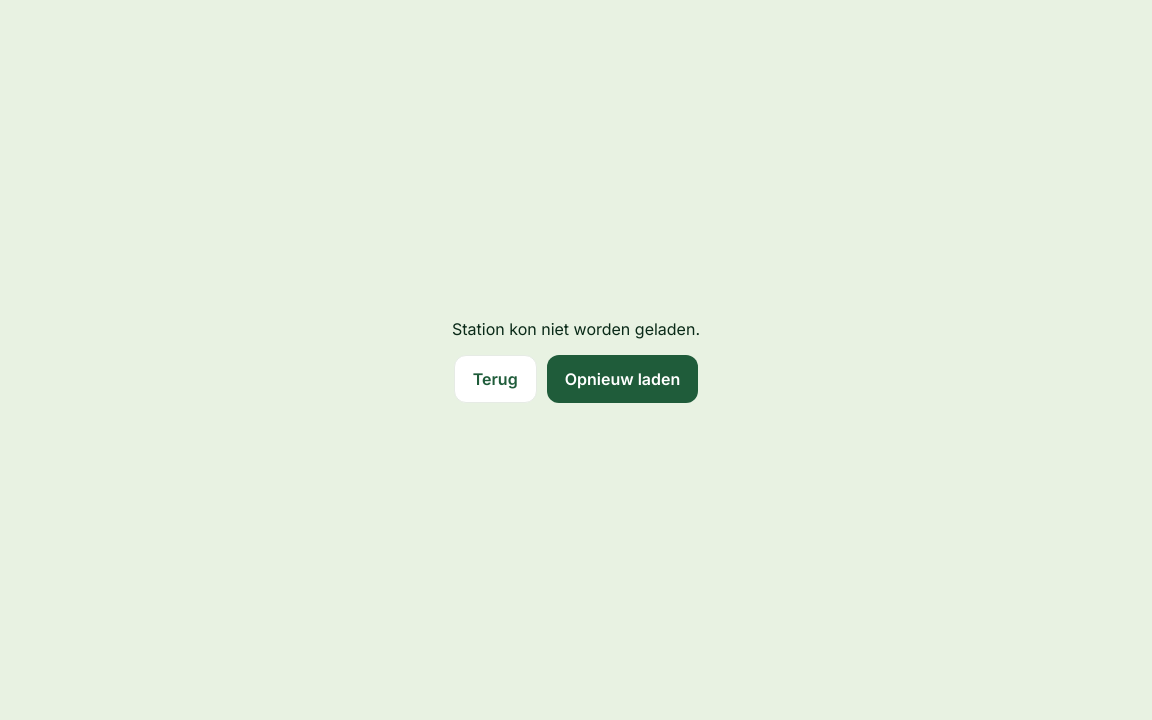
it: Opleveren › stationleesfout → foutmelding met opnieuw laden, geen eindeloze lader
This screenshot has width=1152, height=720.
Expected: the text "Station kon niet worden geladen." is shown, [452, 319, 700, 339]
Click the button "Opnieuw laden": (622,379) [547, 355, 698, 403]
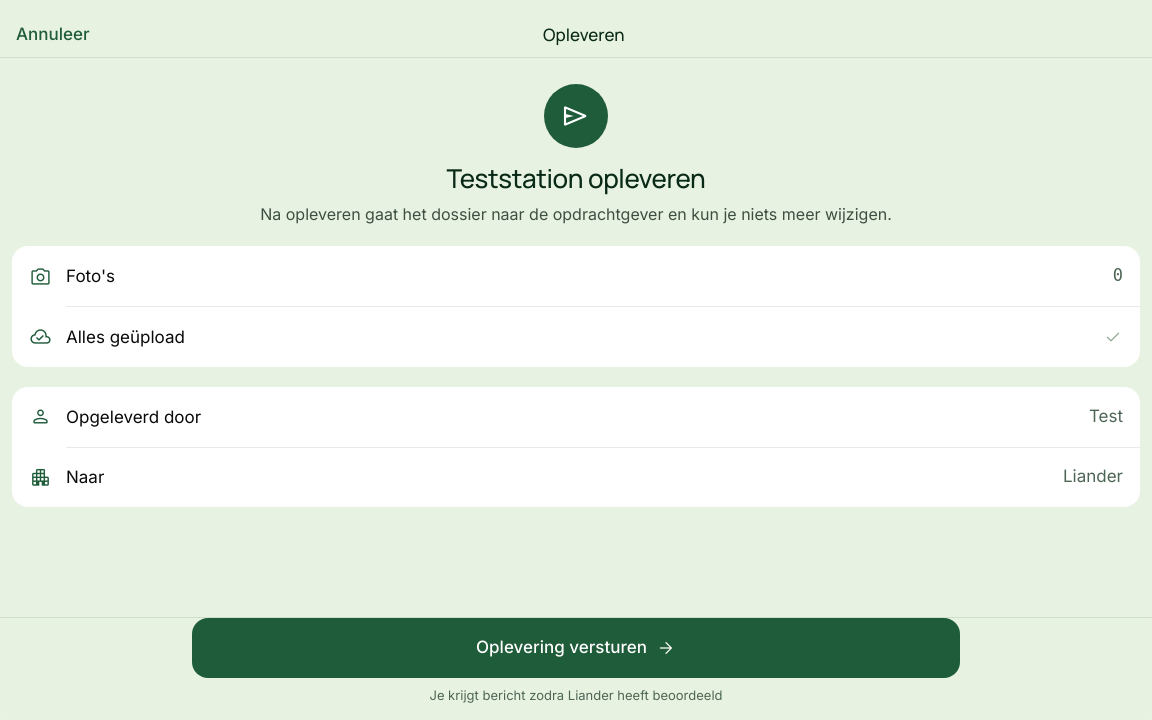
Result: the heading "Teststation opleveren" is shown at [446, 160, 705, 196]
